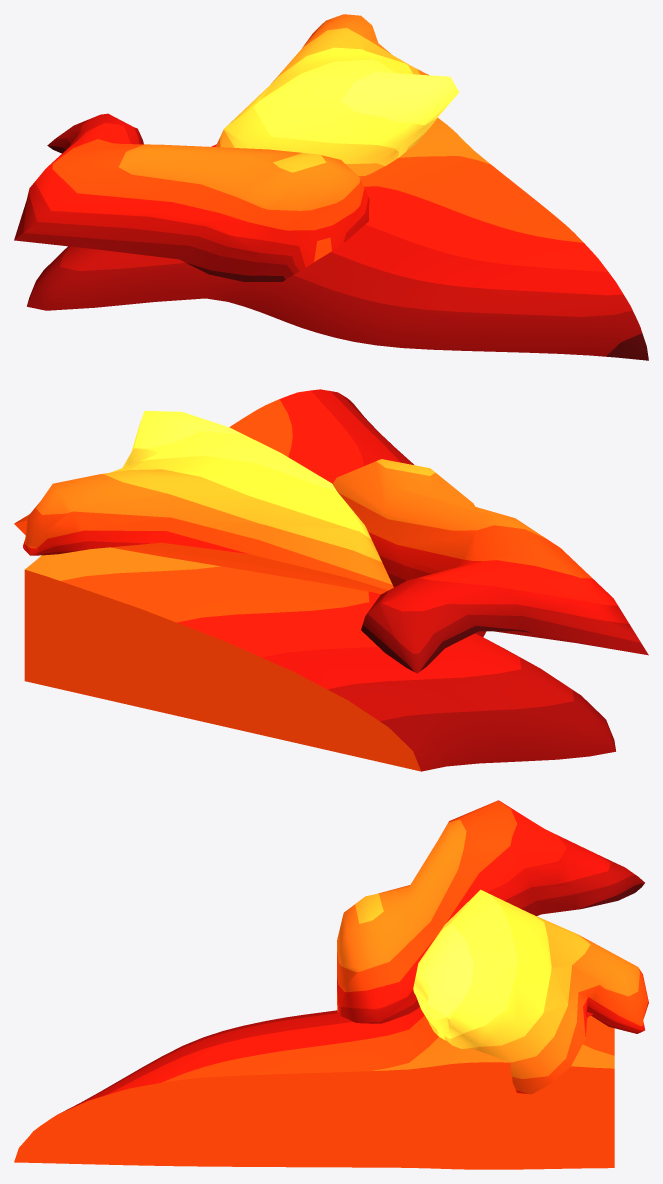
The model's file is fire_head_l.glb.
The picture shows the model from 3 angles, top to bottom: view 1: azimuth 30°, elevation 25°; view 2: azimuth 150°, elevation 25°; view 3: azimuth 270°, elevation 25°; orthographic projection. The views are drawn at different scales.
Parts seen in each view (by area): view 1: fire_head_l; view 2: fire_head_l; view 3: fire_head_l.
Part boxes in pixels (x1,y1,x2,y2): fire_head_l: (14, 14, 648, 360); fire_head_l: (14, 389, 648, 771); fire_head_l: (14, 800, 648, 1169).
Size of the model in its own units: 19.44 by 6.96 by 20.62.
